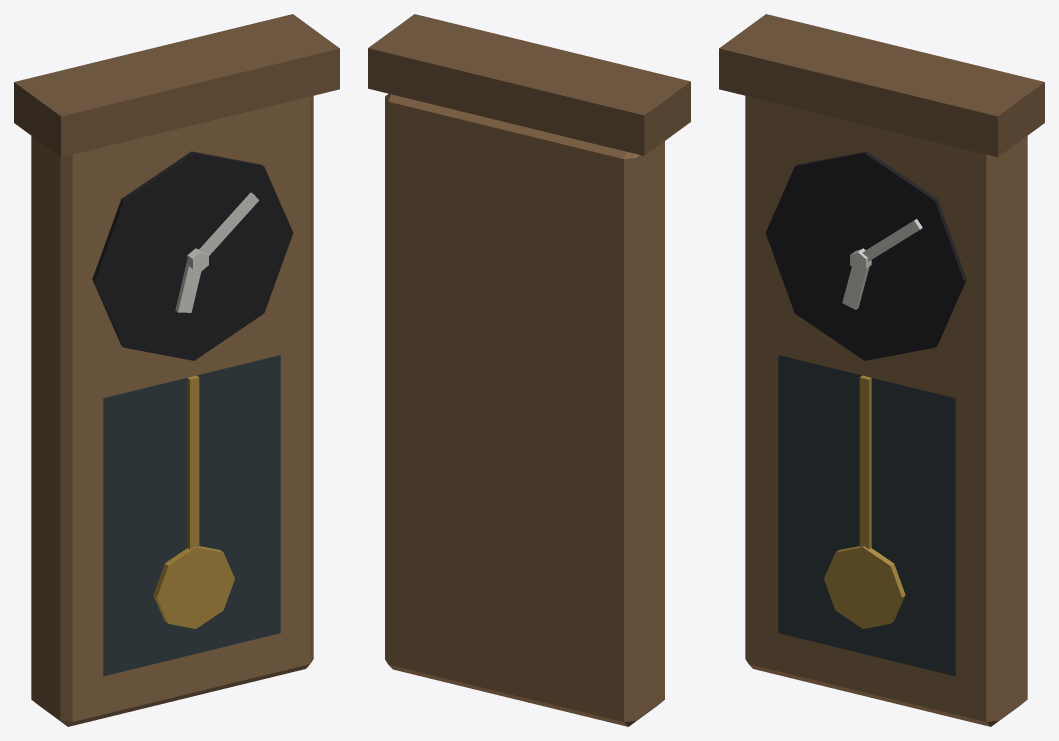
Rendered from wall-clock-07.glb.
3 views of the same model, side by side, from view 1: azimuth 30°, elevation 25°; view 2: azimuth 150°, elevation 25°; view 3: azimuth 330°, elevation 25° (orthographic).
Visible parts, largest first — view 1: wall_clock_07; view 2: wall_clock_07; view 3: wall_clock_07.
Boxes of the visible parts, left/top/right/bottom form: wall_clock_07: left=14, top=14, right=339, bottom=726; wall_clock_07: left=368, top=14, right=690, bottom=726; wall_clock_07: left=719, top=14, right=1044, bottom=726.
Size of the model in its own units: 0.357 by 0.7649 by 0.1053.
